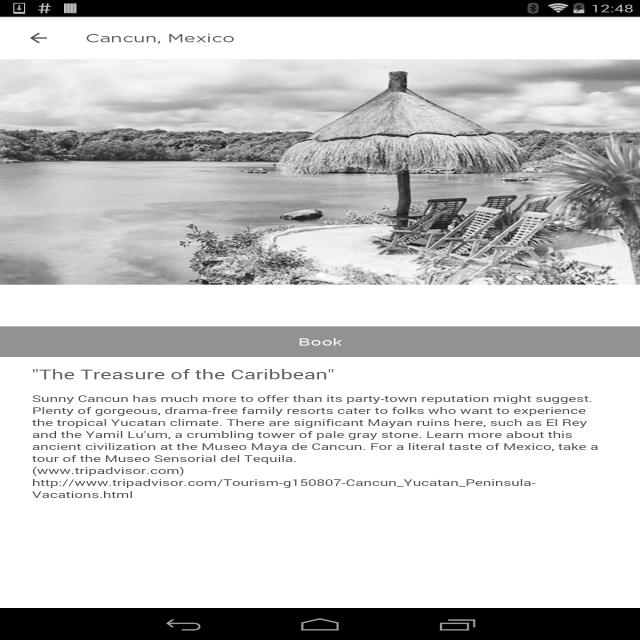ImageButton: (9, 17, 68, 59)
ImageView: (0, 59, 640, 284), (312, 270, 328, 280)
TextView: (0, 326, 640, 357), (86, 31, 236, 45)
